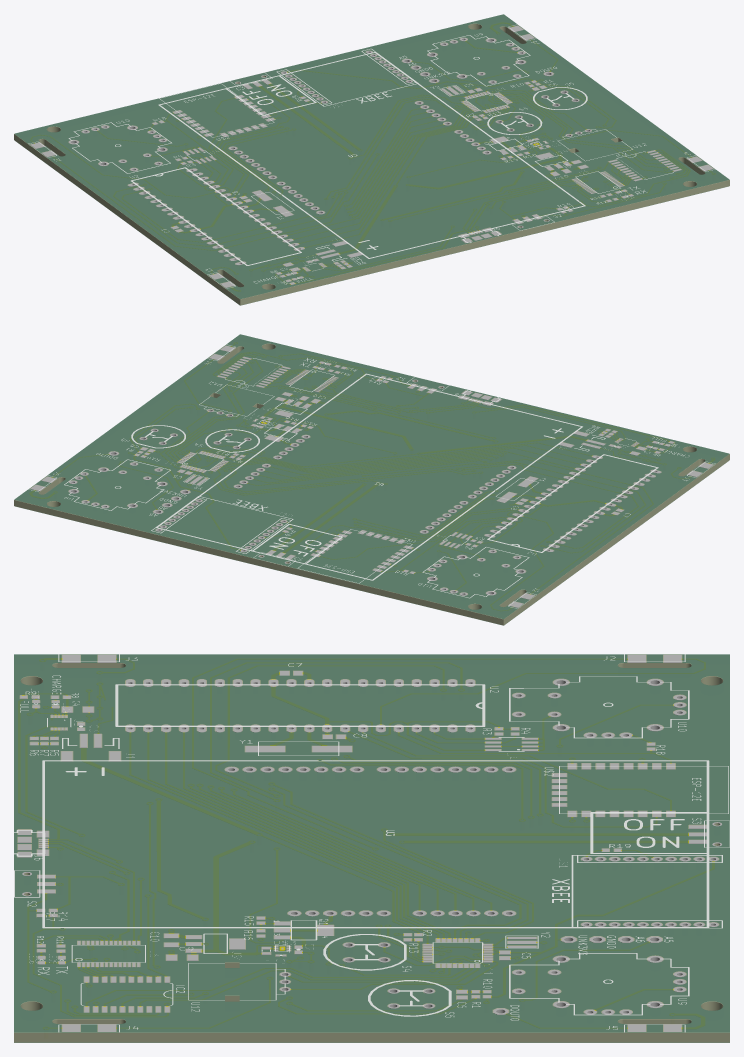
The model's file is dc801-def-con-23-badge.glb.
3 renders of one model, top to bottom at view 1: azimuth 30°, elevation 25°; view 2: azimuth 150°, elevation 25°; view 3: azimuth 270°, elevation 25°, orthographic. The views are drawn at different scales.
Visible parts, largest first — view 1: =>[0:1:1:6], =>[0:1:1:8], =>[0:1:1:2], =>[0:1:1:5]; view 2: =>[0:1:1:6], =>[0:1:1:8], =>[0:1:1:2], =>[0:1:1:5]; view 3: =>[0:1:1:6], =>[0:1:1:8], =>[0:1:1:2], =>[0:1:1:5].
Boxes of the visible parts, x1=… form: =>[0:1:1:6]: x1=14, y1=14, x2=729, y2=305; =>[0:1:1:8]: x1=14, y1=15, x2=729, y2=305; =>[0:1:1:2]: x1=30, y1=23, x2=713, y2=290; =>[0:1:1:5]: x1=28, y1=24, x2=715, y2=288; =>[0:1:1:6]: x1=14, y1=334, x2=729, y2=625; =>[0:1:1:8]: x1=14, y1=335, x2=729, y2=625; =>[0:1:1:2]: x1=30, y1=343, x2=714, y2=609; =>[0:1:1:5]: x1=28, y1=344, x2=715, y2=608; =>[0:1:1:6]: x1=14, y1=654, x2=729, y2=1042; =>[0:1:1:8]: x1=14, y1=654, x2=729, y2=1042; =>[0:1:1:2]: x1=18, y1=655, x2=721, y2=1031; =>[0:1:1:5]: x1=14, y1=654, x2=729, y2=1032.
Bounding box in the file's own units: 0.127 × 0.00163 × 0.1016.
4 materials, 4 textured.
